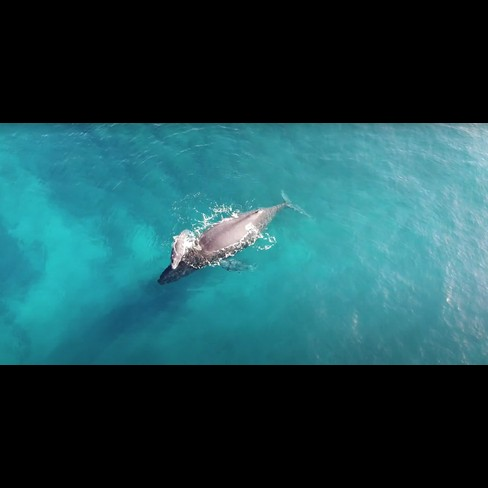hump: (153, 186, 312, 290)
